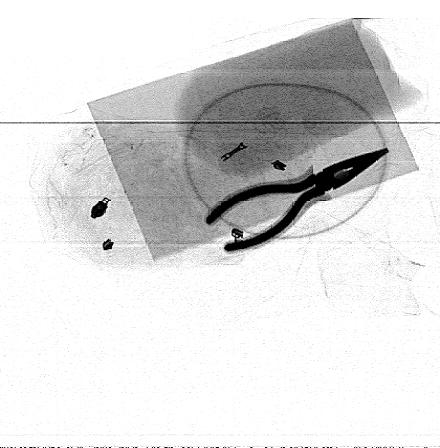Pliers: (203, 147, 389, 252)
